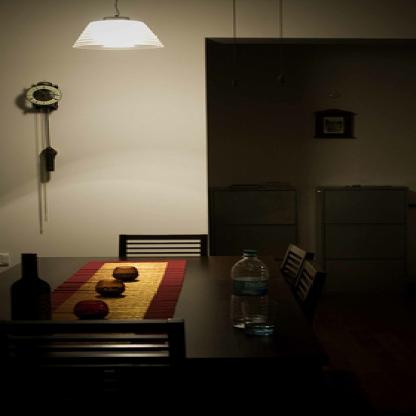bottle: (6, 252, 55, 320), (232, 250, 270, 330)
chair: (3, 318, 189, 385), (117, 234, 211, 255), (297, 259, 323, 298), (281, 245, 312, 273)
diningtable: (0, 254, 327, 368)
